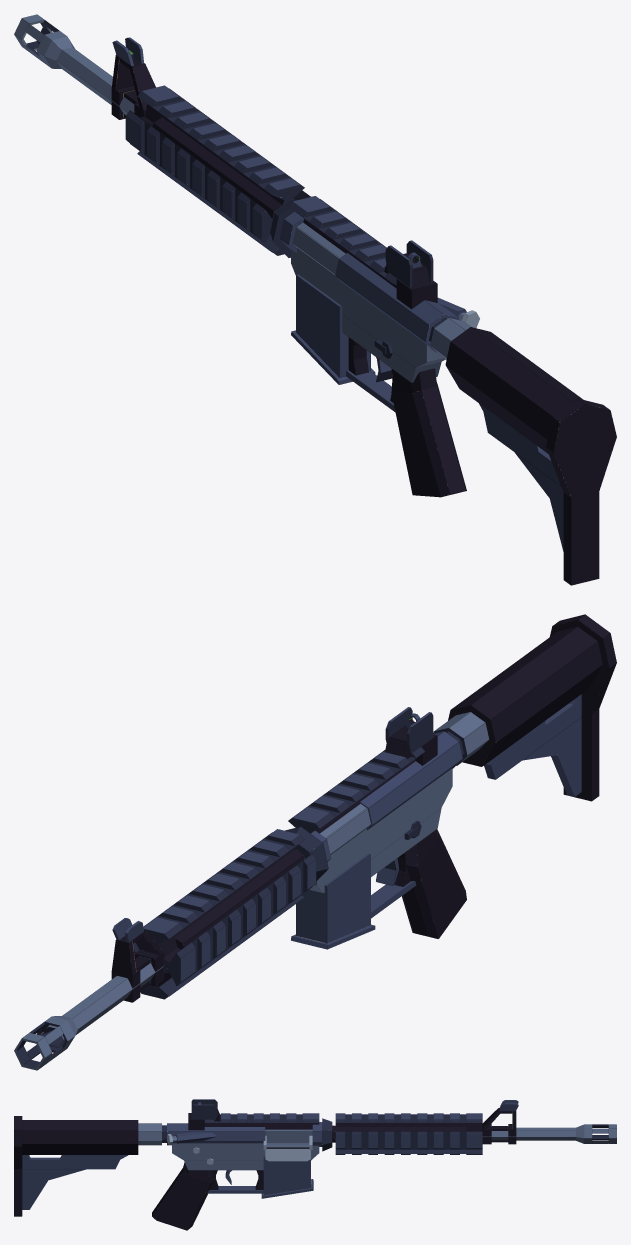
3 views of the same model, one above another, from view 1: azimuth 30°, elevation 25°; view 2: azimuth 150°, elevation 25°; view 3: azimuth 270°, elevation 25° (orthographic). The views are drawn at different scales.
Visible parts, largest first — view 1: cuboid, cylinder; view 2: cuboid, cylinder; view 3: cuboid, cylinder.
Part boxes in pixels (<box>): cuboid: <box>111,37,563,551</box>; cylinder: <box>14,14,616,585</box>; cuboid: <box>111,694,581,1002</box>; cylinder: <box>14,614,616,1070</box>; cuboid: <box>22,1099,518,1230</box>; cylinder: <box>14,1102,616,1216</box>.
Bounding box in the file's own units: 0.3369 × 1.06 × 4.61.
1 material, 1 textured.
